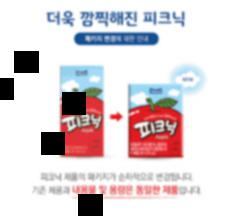picnic_apple: (124, 79, 189, 165), (53, 62, 107, 161)
